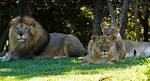lion: (9, 16, 82, 57), (82, 30, 150, 63)
